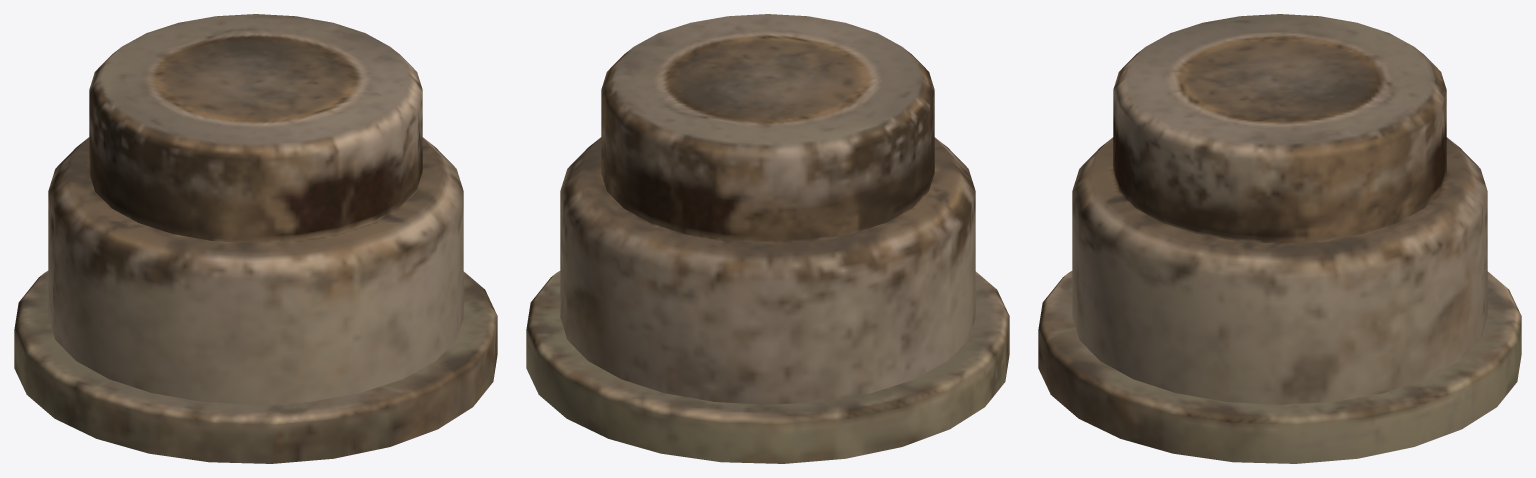
Rendered from SM_Colba_Razem.001.fbx.
3 renders of one model, left to right at view 1: azimuth 30°, elevation 25°; view 2: azimuth 150°, elevation 25°; view 3: azimuth 270°, elevation 25°, orthographic.
Visible parts, largest first — view 1: SM_Colba_Razem.001; view 2: SM_Colba_Razem.001; view 3: SM_Colba_Razem.001.
Part boxes in pixels (<box>): SM_Colba_Razem.001: <box>14,14,497,463</box>; SM_Colba_Razem.001: <box>526,14,1009,463</box>; SM_Colba_Razem.001: <box>1038,14,1521,463</box>.
Size of the model in its own units: 0.1664 by 0.1073 by 0.1664.
